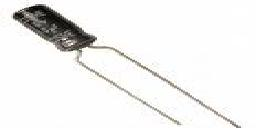Electrolytic-Capacitor: (9, 3, 242, 128)
